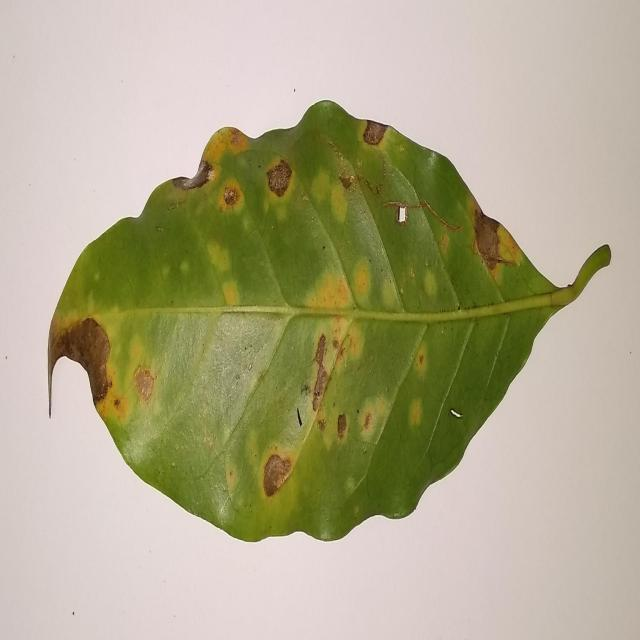Enfermedad-Mancha-de-hierro: (45, 101, 612, 546)
